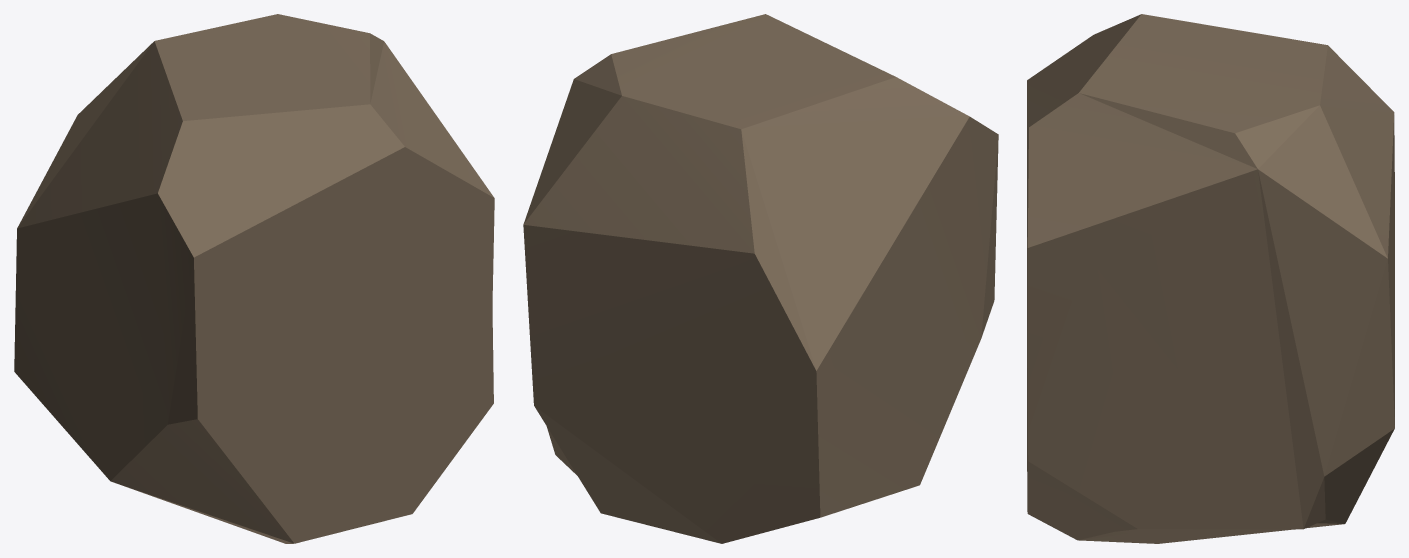
The model's file is Rock_7.fbx.
The picture shows the model from 3 angles, left to right: view 1: azimuth 30°, elevation 25°; view 2: azimuth 150°, elevation 25°; view 3: azimuth 270°, elevation 25°; orthographic projection. The views are drawn at different scales.
Parts seen in each view (by area): view 1: Rock_7; view 2: Rock_7; view 3: Rock_7.
Boxes of the visible parts, x1,y1,x2,y2 form: Rock_7: (14, 14, 494, 543); Rock_7: (523, 14, 998, 543); Rock_7: (1027, 14, 1394, 543).
Bounding box in the file's own units: 82.77 × 118 × 82.76.
